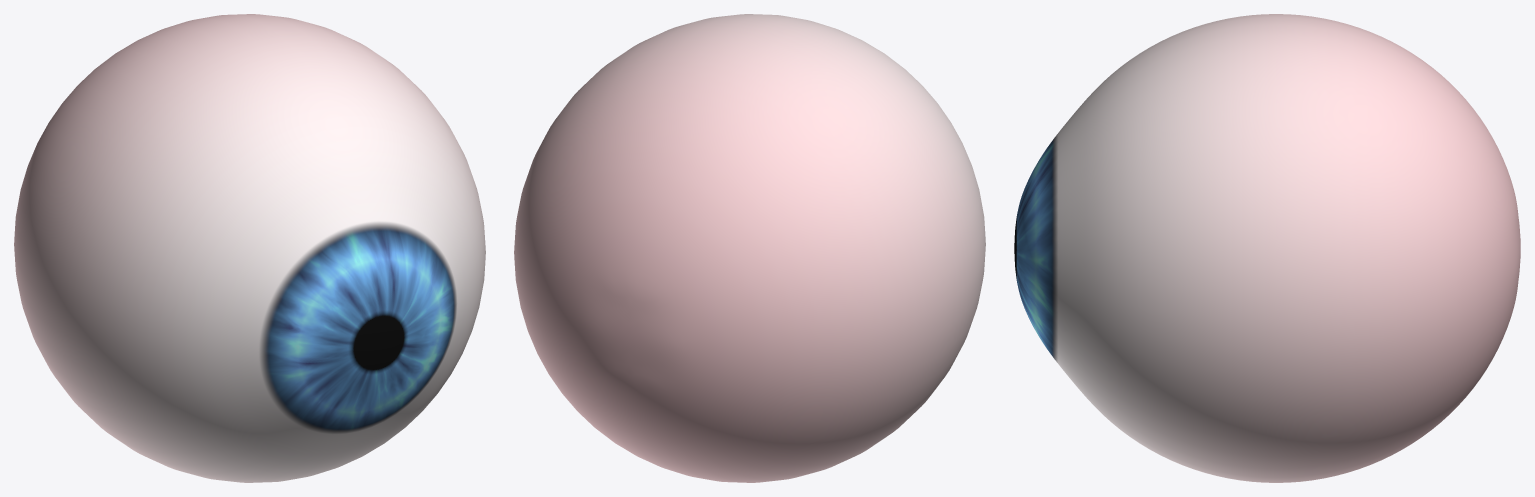
Rendered from eye_model.glb.
3 renders of one model, left to right at view 1: azimuth 30°, elevation 25°; view 2: azimuth 150°, elevation 25°; view 3: azimuth 270°, elevation 25°, orthographic.
Parts seen in each view (by area): view 1: Sphere.001; view 2: Sphere.001; view 3: Sphere.001.
Part boxes in pixels (x1,y1,x2,y2): Sphere.001: (14,14,485,482); Sphere.001: (514,14,985,482); Sphere.001: (1014,14,1520,482).
Bounding box in the file's own units: 1.9 × 1.9 × 2.05.
1 material, 1 textured.
